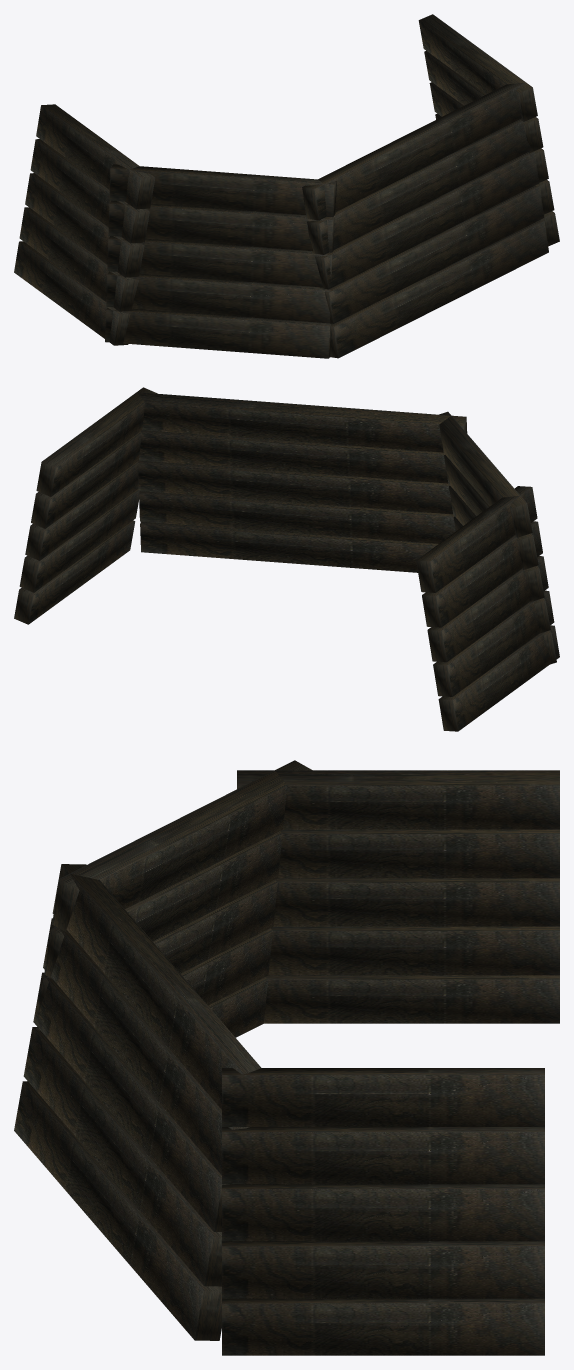
Rendered from WoodenBarrierPartTest14.obj.
3 views of the same model, one above another, from view 1: azimuth 30°, elevation 25°; view 2: azimuth 150°, elevation 25°; view 3: azimuth 270°, elevation 25° (orthographic). The views are drawn at different scales.
Parts seen in each view (by area): view 1: Box005; view 2: Box005; view 3: Box005.
Boxes of the visible parts, x1=… form: Box005: x1=14, y1=14, x2=559, y2=358; Box005: x1=14, y1=387, x2=559, y2=731; Box005: x1=14, y1=760, x2=559, y2=1355.
Size of the model in its own units: 182 by 63.84 by 120.
